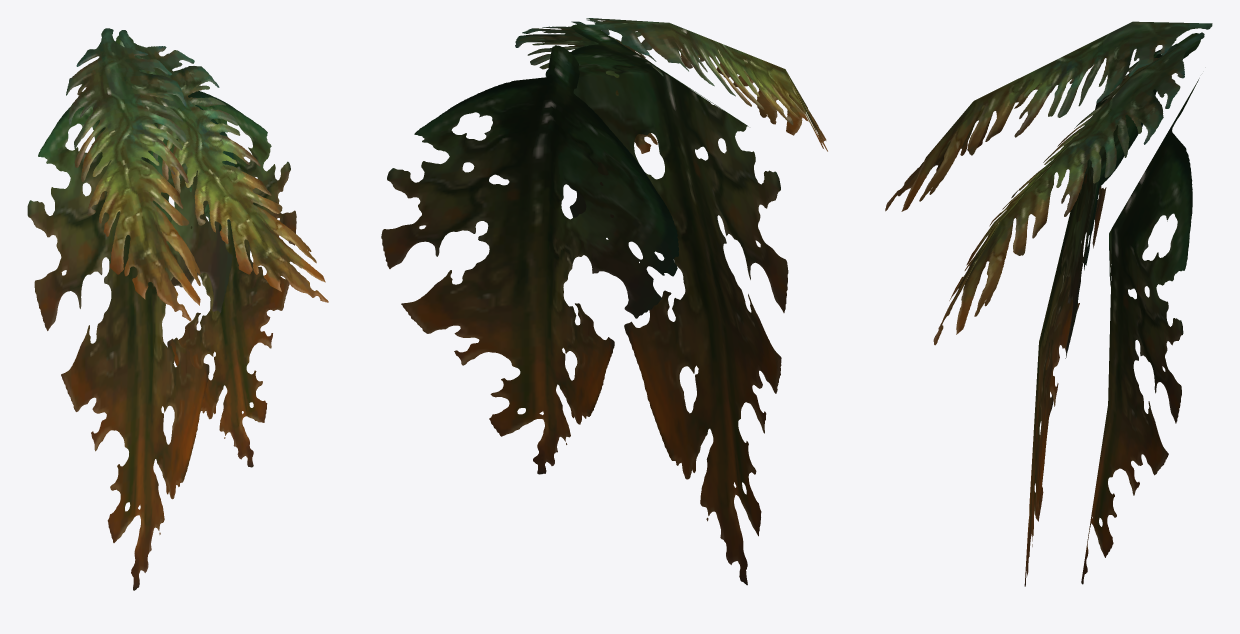
File: stemple_broadleaf_straight_03.fbx
3 renders of one model, left to right at view 1: azimuth 30°, elevation 25°; view 2: azimuth 150°, elevation 25°; view 3: azimuth 270°, elevation 25°, orthographic. The views are drawn at different scales.
Visible parts, largest first — view 1: sunken_tileset/sunken_plants01_mat; view 2: sunken_tileset/sunken_plants01_mat; view 3: sunken_tileset/sunken_plants01_mat.
Part boxes in pixels (<box>): sunken_tileset/sunken_plants01_mat: <box>27,28,328,590</box>; sunken_tileset/sunken_plants01_mat: <box>381,18,827,585</box>; sunken_tileset/sunken_plants01_mat: <box>885,21,1212,586</box>.
Bounding box in the file's own units: 1.85 × 3 × 1.53.
